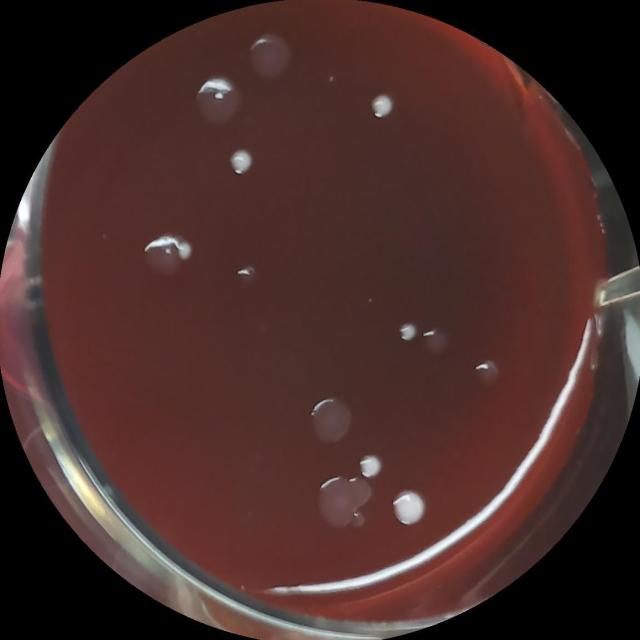Staphylococcus: (389, 486, 431, 531), (366, 90, 396, 124), (226, 148, 256, 178), (356, 454, 381, 483), (173, 236, 197, 264), (396, 320, 418, 346)
